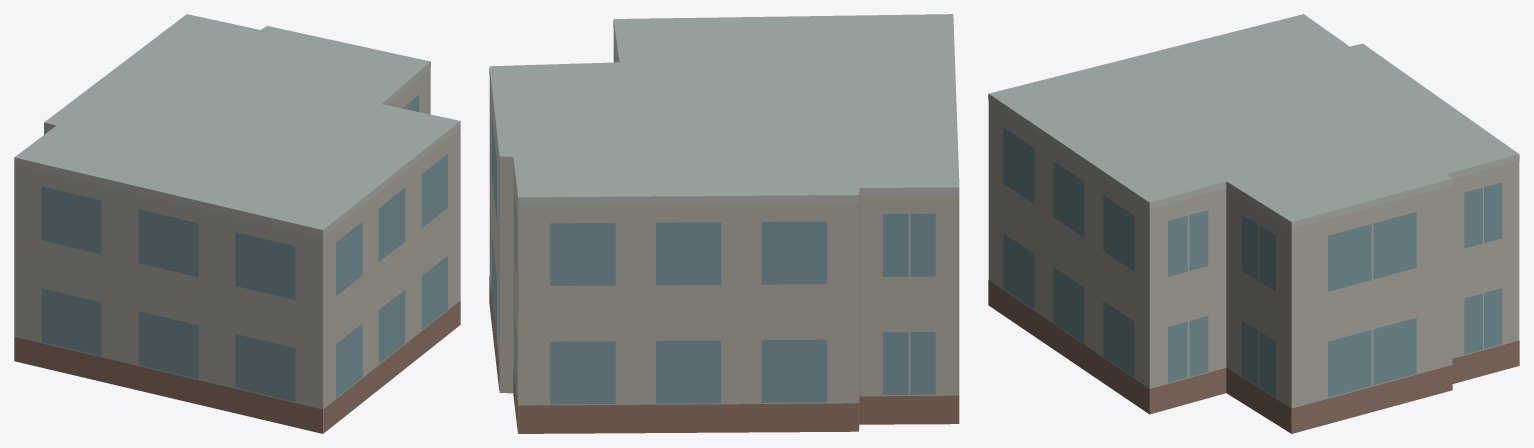
The model's file is survey-upis-32616020.glb.
The picture shows the model from 3 angles, left to right: view 1: azimuth 30°, elevation 25°; view 2: azimuth 150°, elevation 25°; view 3: azimuth 270°, elevation 25°; orthographic projection. The views are drawn at different scales.
Parts seen in each view (by area): view 1: survey-upis-32616020.tmp; view 2: survey-upis-32616020.tmp; view 3: survey-upis-32616020.tmp.
Boxes of the visible parts, <box> form: survey-upis-32616020.tmp: <box>14,14,460,433</box>; survey-upis-32616020.tmp: <box>489,14,959,433</box>; survey-upis-32616020.tmp: <box>988,14,1519,433</box>.
Size of the model in its own units: 16.25 by 7.7 by 17.51.
